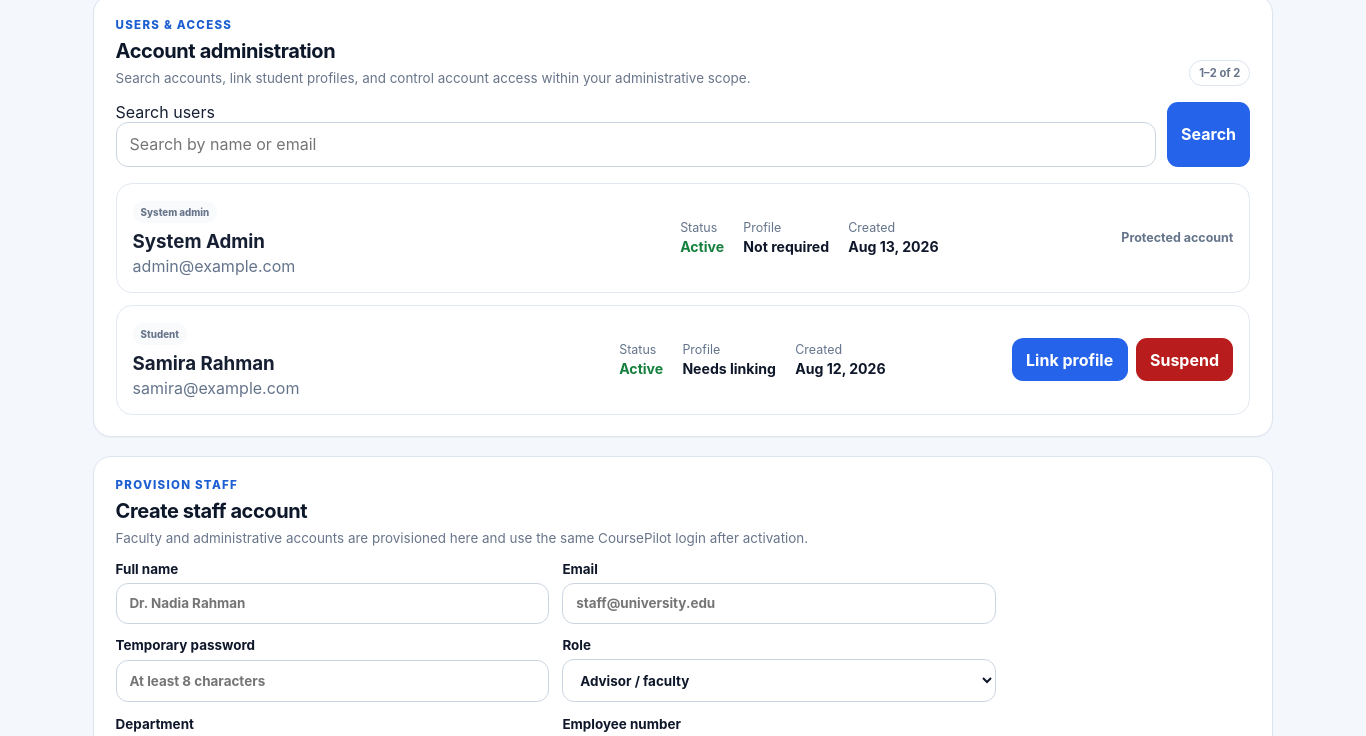
Test case: AdminDashboardPage › rejects student trimester values outside the backend contract
The width and height of the screenshot is (1366, 736).
(page scrolled)
Check: the heading "Samira Rahman" is shown, box [133,352,275,375]
Click the button "Link profile" at point(1070, 360), box [1012,338,1128,381]
(page scrolled)
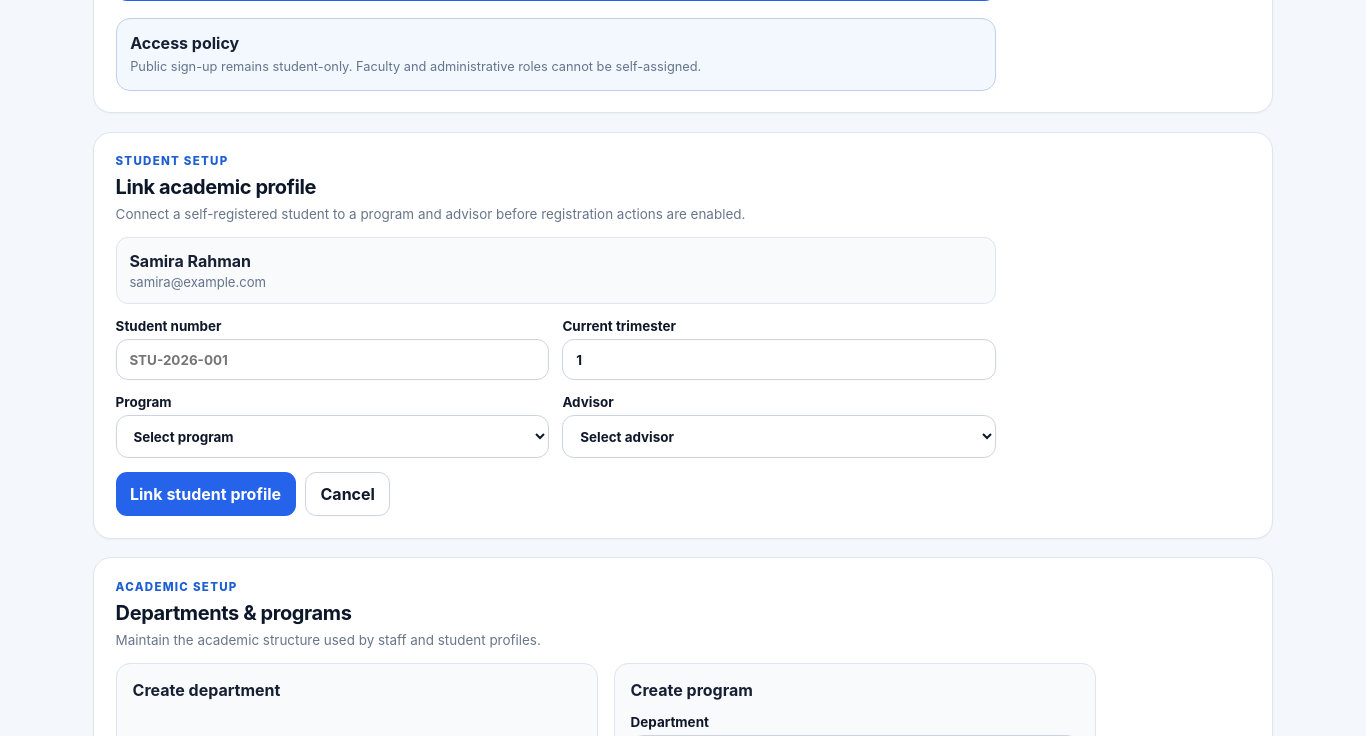
Type "STU-001" into the field labelled "Student number" at point(332, 360), box [116,339,549,380]
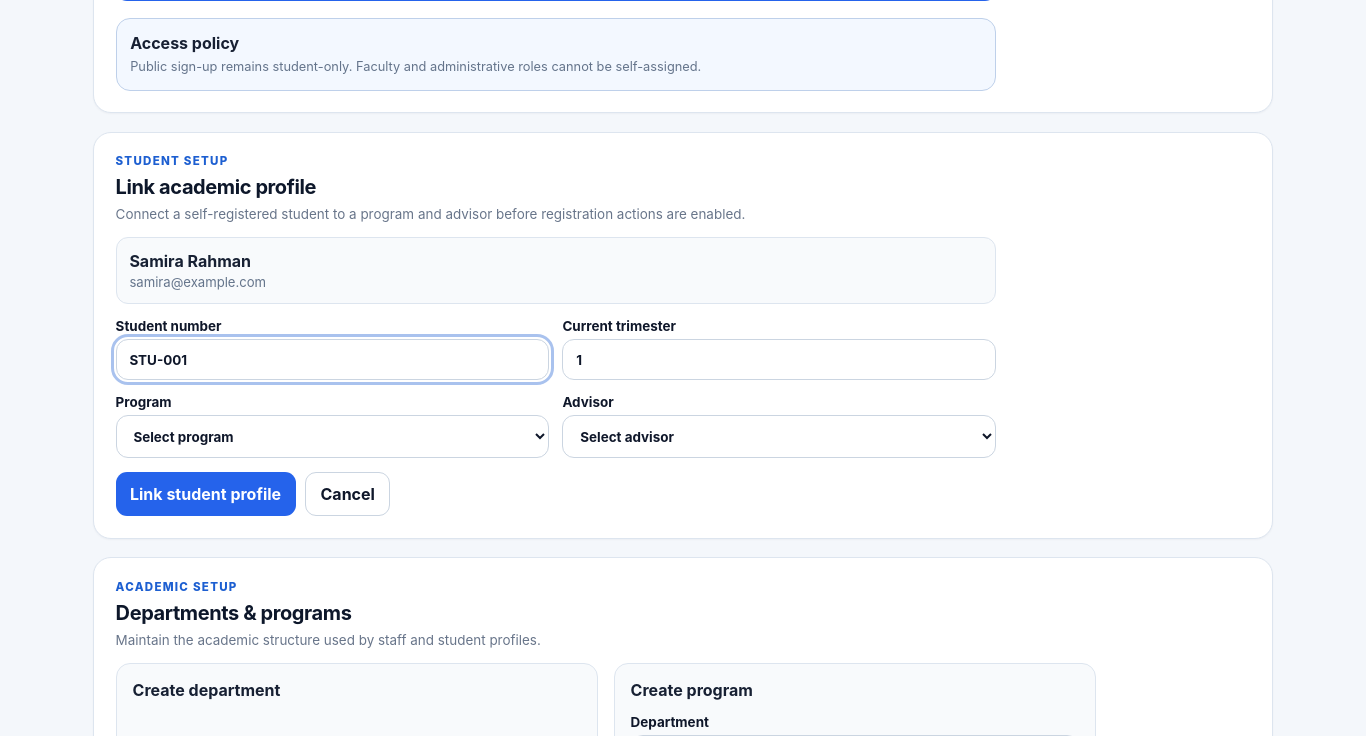
Replace the text in the number field labelled "Current trimester" with "31" at point(779, 360), box [562,339,996,380]
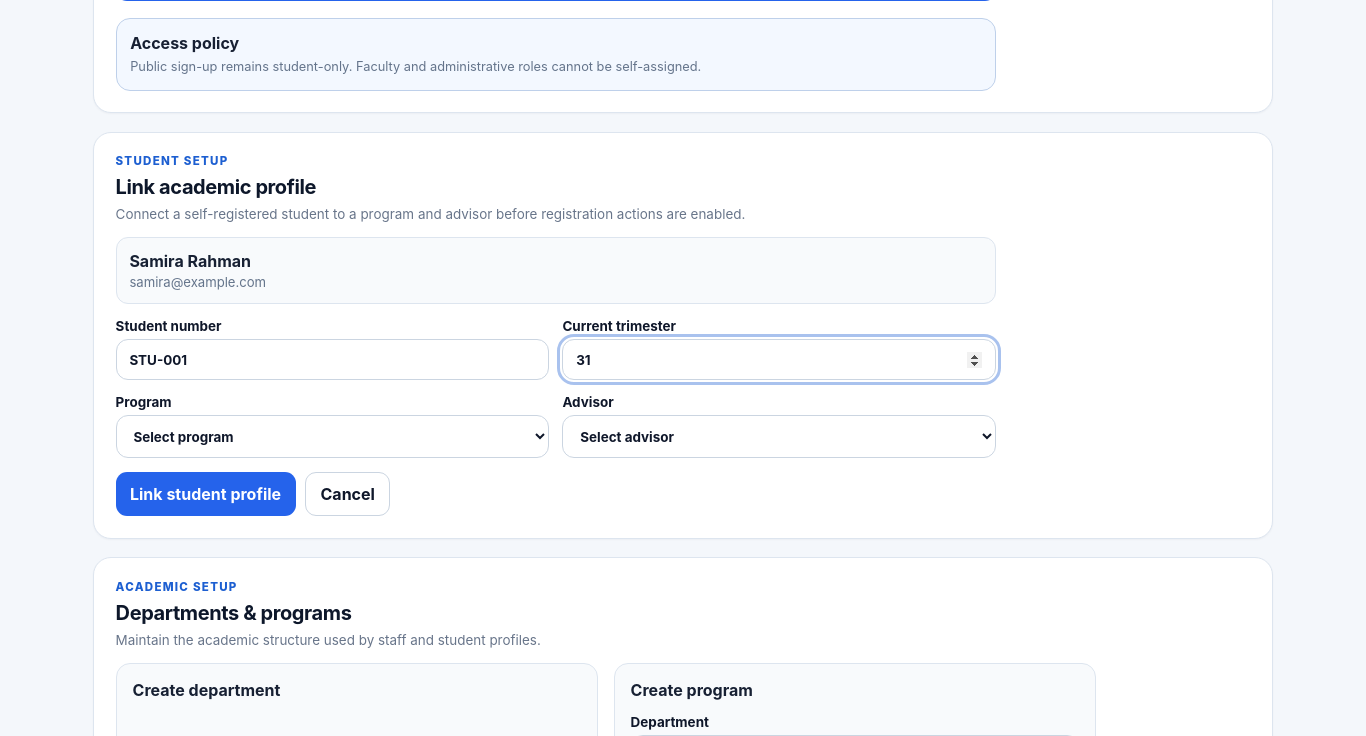
Select "BSC-CSE · BSc in CSE" in the dropdown labelled "Program" at point(332, 437), box [116,415,549,458]
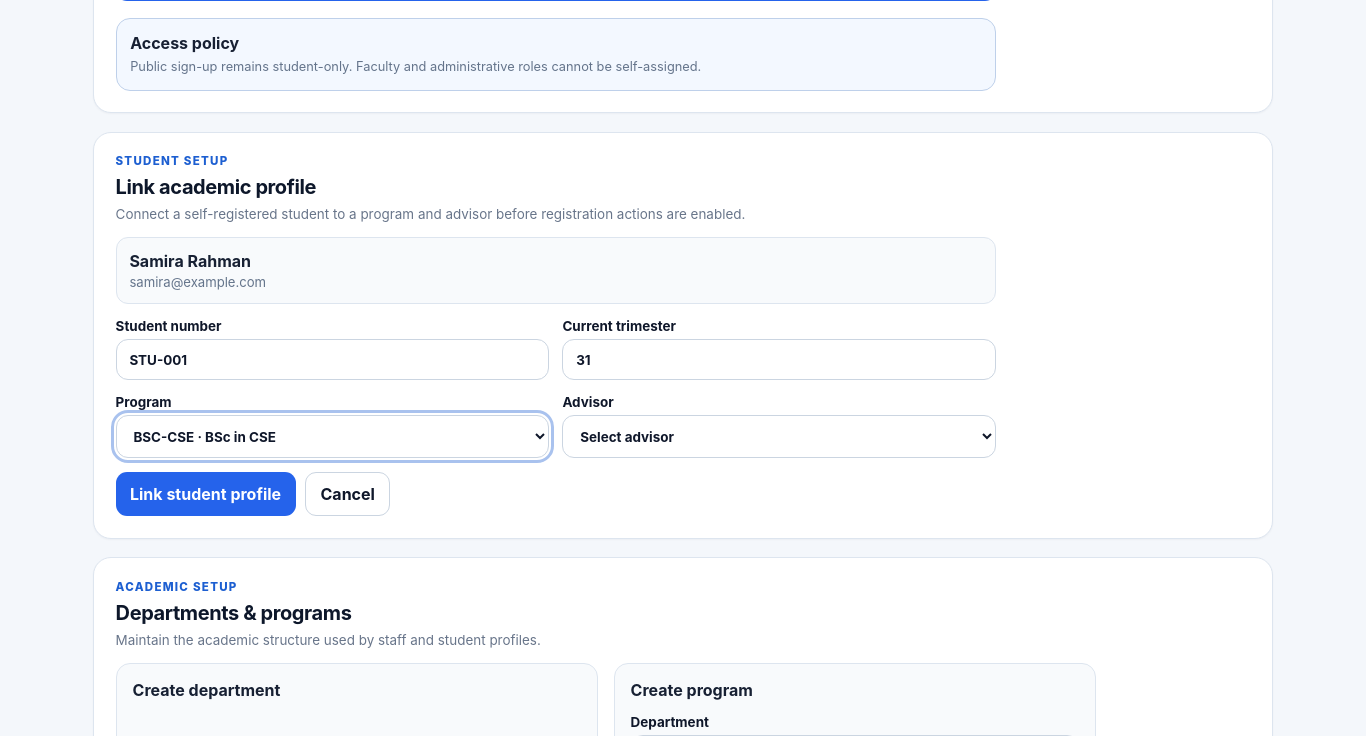
Select "Dr. Nadia · FAC-001" in the dropdown labelled "Advisor" at point(779, 437), box [562,415,996,458]
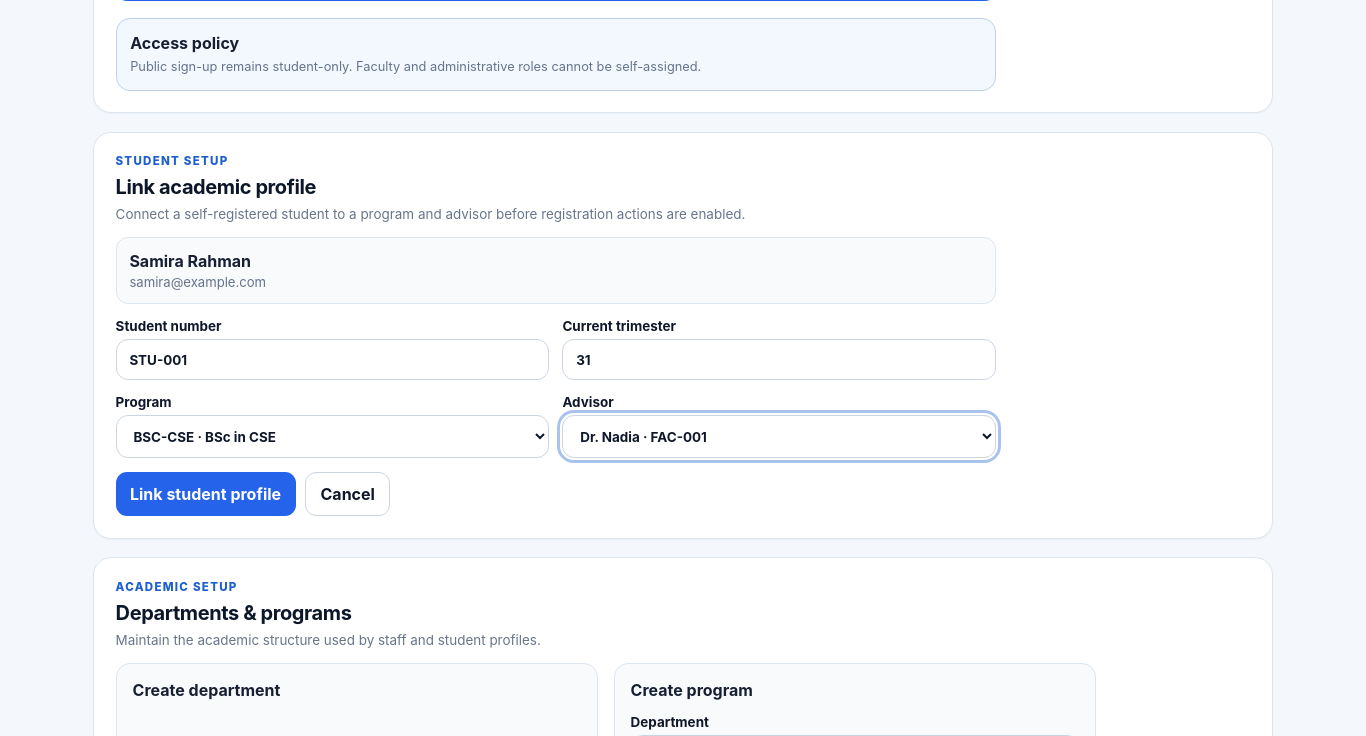
Click the button "Link student profile" at point(206, 494), box [116,472,296,516]
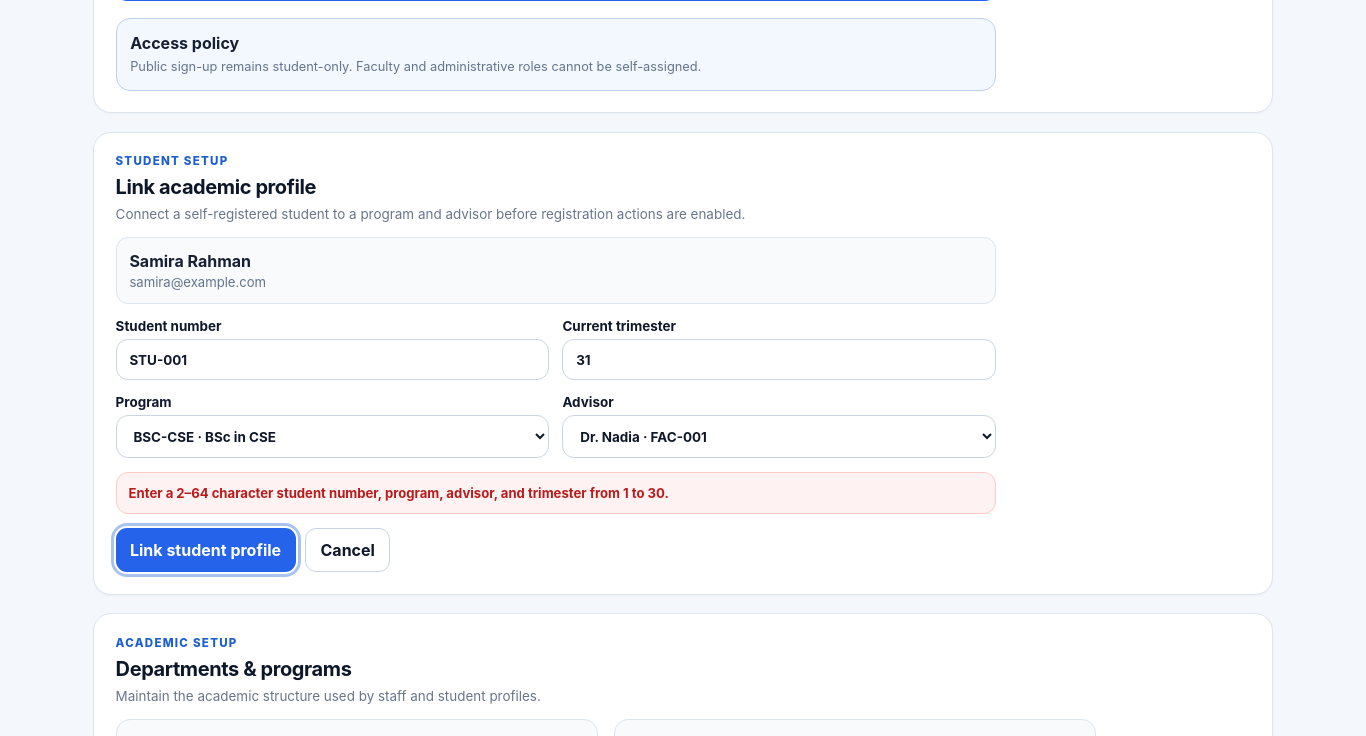
Check: the text "trimester from 1 to 30" is shown, box [129,485,669,501]
